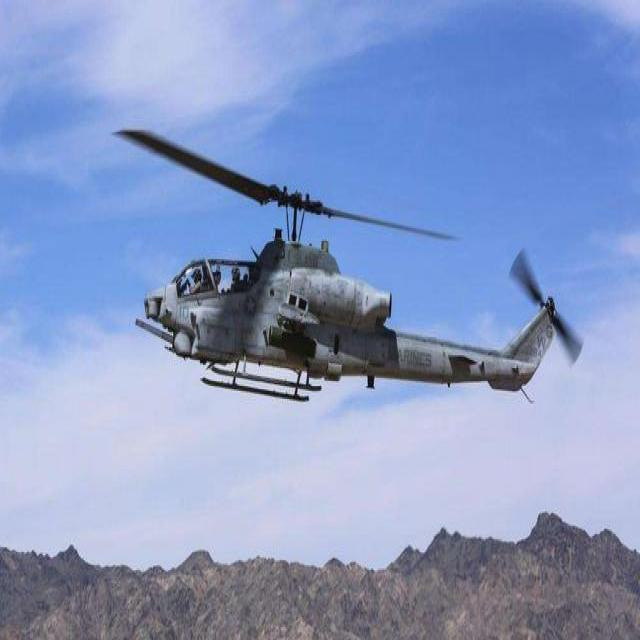MIL_HELO: (107, 115, 590, 440)
